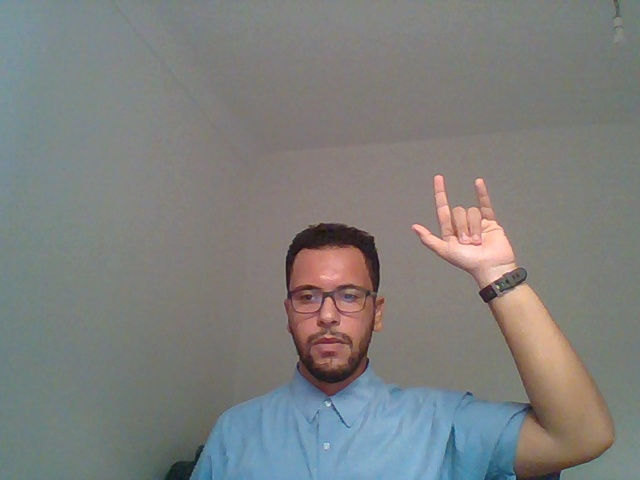iloveyou: (403, 147, 552, 406)
